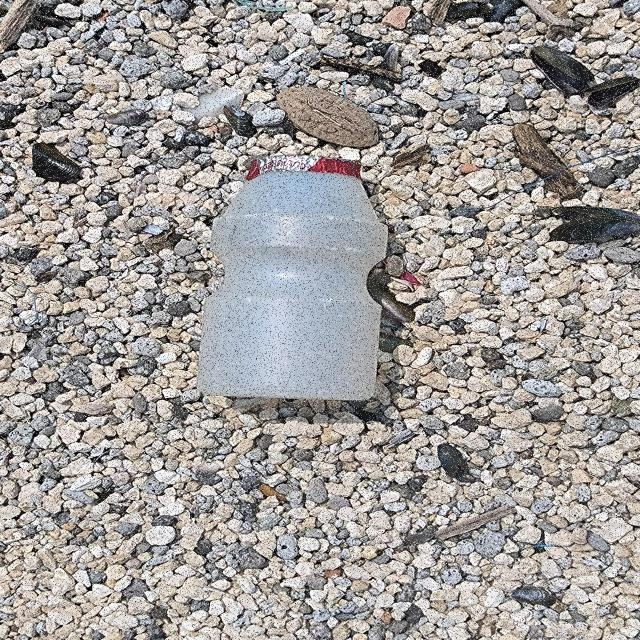plastic_waste: (196, 155, 391, 403)
